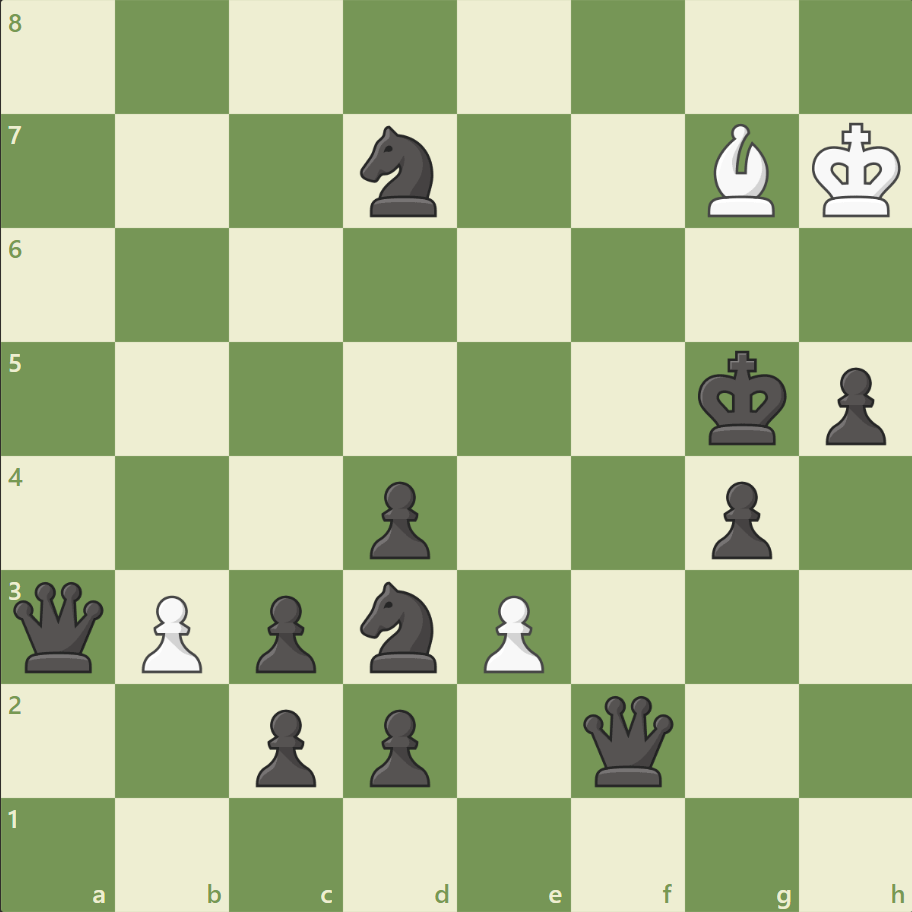B: (698, 120, 782, 222)
K: (806, 117, 906, 225)
P: (133, 586, 208, 677), (474, 586, 549, 677)
k: (692, 344, 792, 452)
n: (351, 121, 449, 223), (351, 575, 449, 677)
p: (701, 473, 776, 564), (247, 586, 322, 677), (247, 700, 322, 791), (815, 359, 889, 450), (361, 473, 435, 564), (361, 700, 435, 791)
q: (10, 576, 109, 676), (578, 690, 677, 789)
